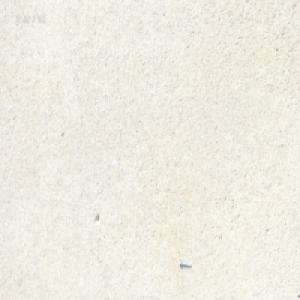Nail: (178, 260, 191, 269)
